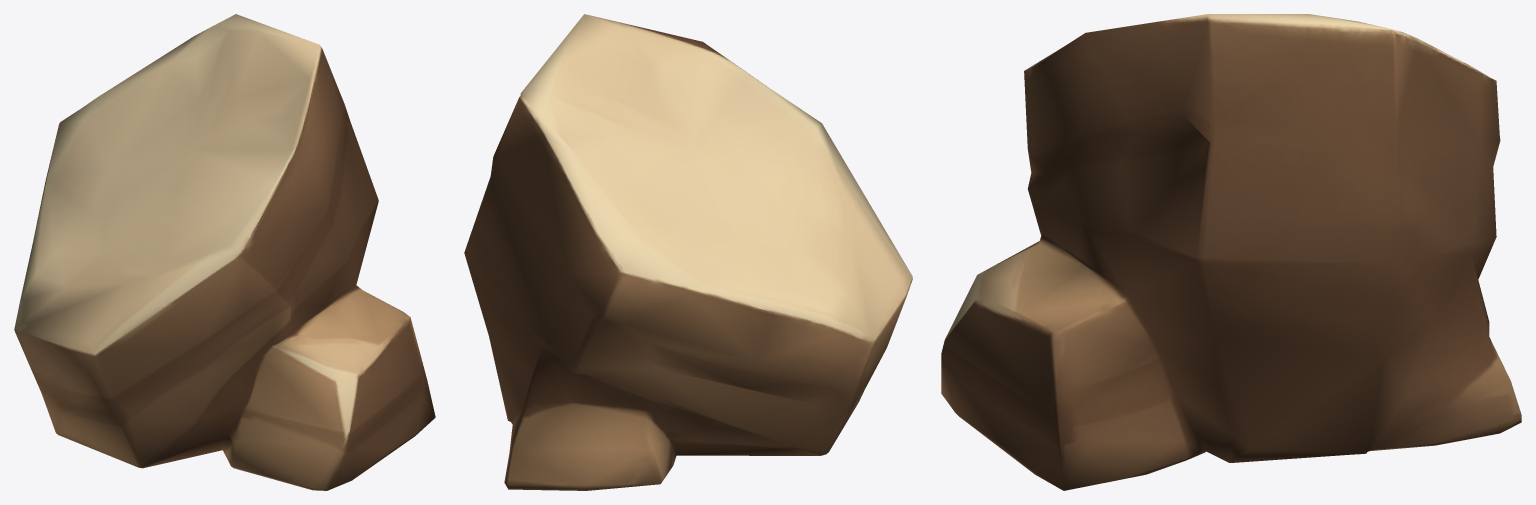
The picture shows the model from 3 angles, left to right: view 1: azimuth 30°, elevation 25°; view 2: azimuth 150°, elevation 25°; view 3: azimuth 270°, elevation 25°; orthographic projection. The views are drawn at different scales.
Parts seen in each view (by area): view 1: desert-rock-3; view 2: desert-rock-3; view 3: desert-rock-3.
Part boxes in pixels (x1=…): desert-rock-3: x1=14, y1=14, x2=435, y2=490; desert-rock-3: x1=464, y1=14, x2=912, y2=490; desert-rock-3: x1=941, y1=14, x2=1521, y2=490.
Size of the model in its own units: 0.264 by 0.2524 by 0.2993.
Materials: 1 (1 with a texture image).
